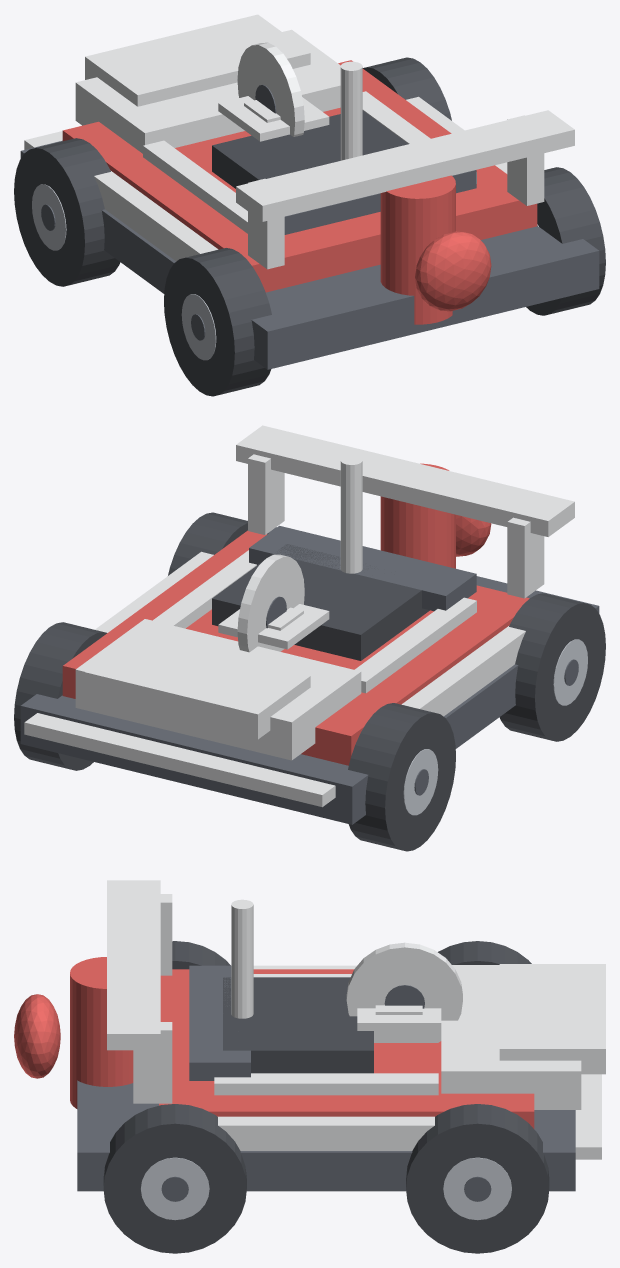
File: rocket.glb
3 renders of one model, top to bottom at view 1: azimuth 30°, elevation 25°; view 2: azimuth 150°, elevation 25°; view 3: azimuth 270°, elevation 25°, orthographic.
Parts seen in each view (by area): view 1: part_0, part_1, part_11, part_19, part_3, part_16, part_2, part_31, part_4, part_25, part_32, part_9 (+12 smaller); view 2: part_3, part_0, part_1, part_11, part_2, part_16, part_19, part_4, part_28, part_5, part_22, part_31 (+13 smaller); view 3: part_0, part_25, part_22, part_1, part_4, part_3, part_2, part_11, part_10, part_8, part_31, part_34 (+15 smaller).
Boxes of the visible parts, left/top/right/bottom form: part_0: left=20, top=140, right=599, bottom=369; part_1: left=62, top=60, right=537, bottom=292; part_11: left=236, top=110, right=574, bottom=221; part_19: left=164, top=248, right=271, bottom=396; part_3: left=85, top=14, right=310, bottom=106; part_16: left=14, top=138, right=120, bottom=286; part_2: left=75, top=29, right=340, bottom=153; part_31: left=380, top=175, right=455, bottom=324; part_4: left=212, top=110, right=408, bottom=188; part_25: left=526, top=167, right=605, bottom=315; part_32: left=415, top=231, right=491, bottom=311; part_9: left=94, top=171, right=218, bottom=261; part_3: left=85, top=633, right=310, bottom=739; part_0: left=20, top=527, right=599, bottom=824; part_1: left=62, top=530, right=529, bottom=765; part_11: left=236, top=425, right=574, bottom=536; part_2: left=75, top=619, right=361, bottom=760; part_16: left=348, top=703, right=455, bottom=851; part_19: left=499, top=593, right=605, bottom=741; part_4: left=212, top=544, right=429, bottom=660; part_28: left=24, top=713, right=335, bottom=807; part_5: left=249, top=525, right=476, bottom=611; part_22: left=14, top=622, right=106, bottom=770; part_31: left=380, top=463, right=455, bottom=568; part_0: left=77, top=1080, right=575, bottom=1191; part_25: left=103, top=1104, right=246, bottom=1253; part_22: left=406, top=1104, right=549, bottom=1253; part_1: left=159, top=969, right=534, bottom=1128; part_4: left=223, top=977, right=373, bottom=1073; part_3: left=499, top=964, right=605, bottom=1074; part_2: left=441, top=965, right=581, bottom=1109; part_11: left=107, top=880, right=160, bottom=1050; part_10: left=218, top=1116, right=434, bottom=1150; part_8: left=346, top=942, right=462, bottom=1042; part_31: left=70, top=957, right=133, bottom=1108; part_34: left=214, top=1073, right=438, bottom=1095.
Size of the model in its own units: 3.89 by 2.54 by 5.28.
